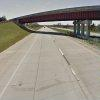Bridge: (11, 5, 98, 36)
